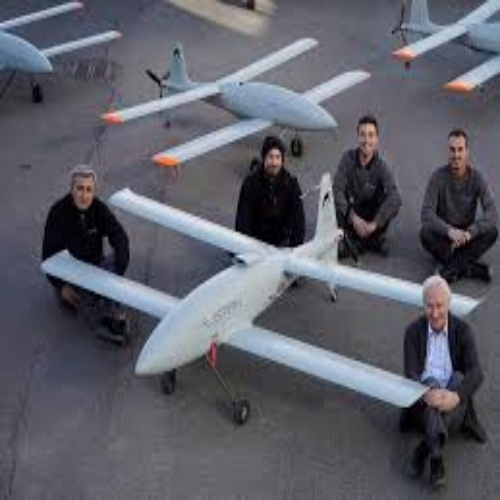uav365: (103, 191, 425, 403), (128, 34, 349, 142), (1, 1, 118, 99), (392, 1, 498, 94)
